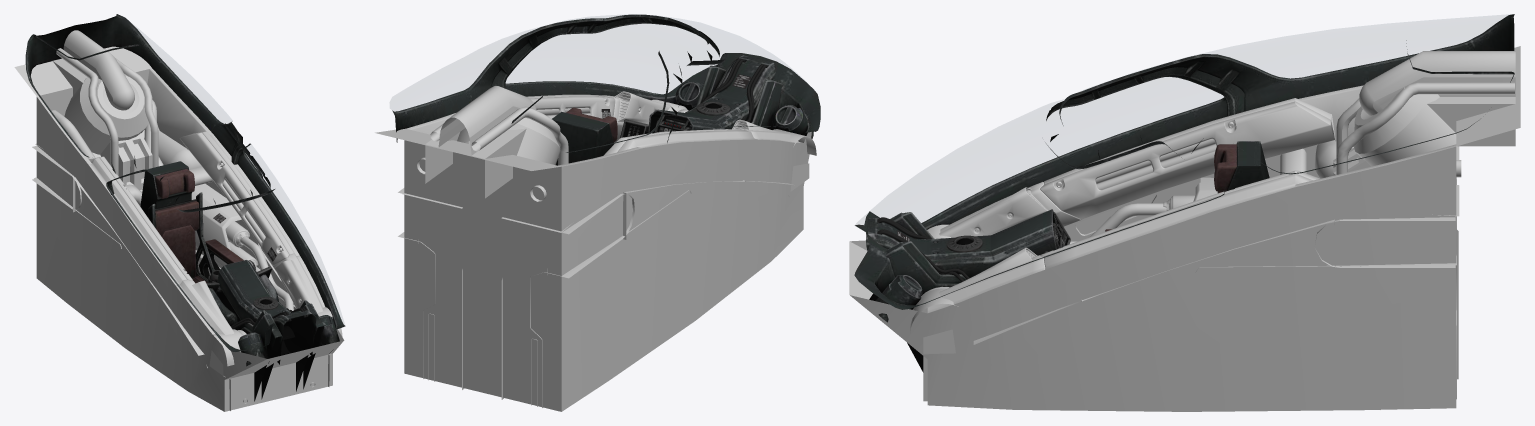
The model's file is CockpitMain.fbx.
3 views of the same model, side by side, from view 1: azimuth 30°, elevation 25°; view 2: azimuth 150°, elevation 25°; view 3: azimuth 270°, elevation 25° (orthographic). The views are drawn at different scales.
Parts seen in each view (by area): view 1: monitors_displ_0; view 2: monitors_displ_0; view 3: monitors_displ_0.
Boxes of the visible parts, x1=… form: monitors_displ_0: x1=14, y1=14, x2=345, y2=411; monitors_displ_0: x1=375, y1=14, x2=820, y2=411; monitors_displ_0: x1=849, y1=14, x2=1520, y2=411.
Bounding box in the file's own units: 105 × 166 × 305.
